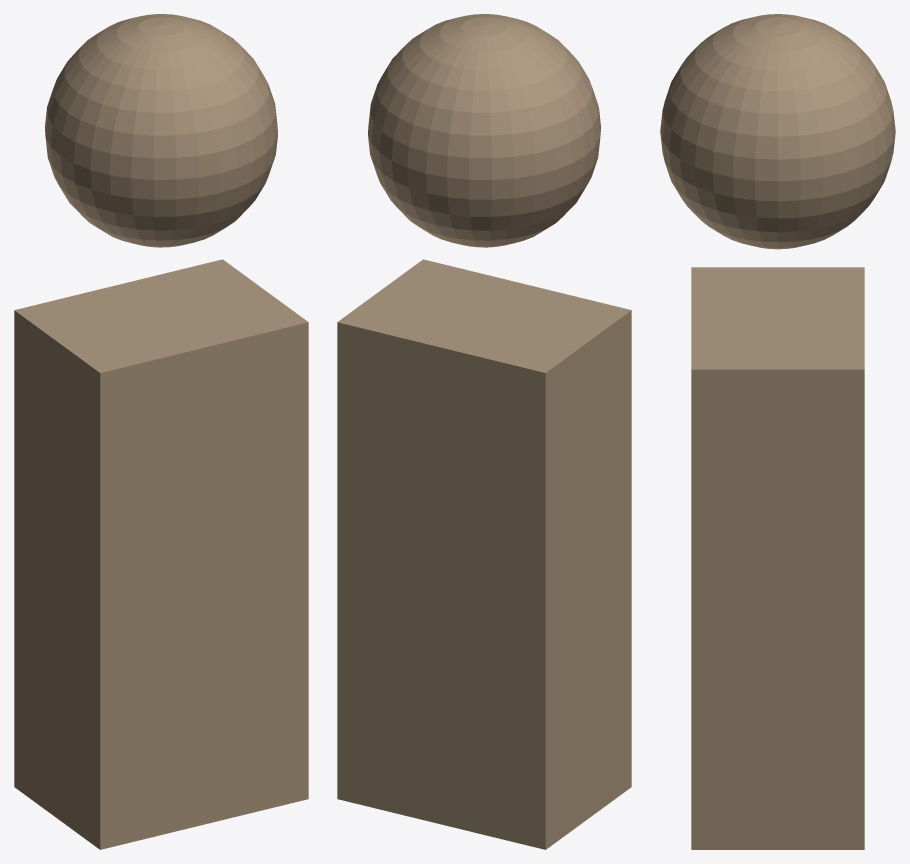
File: monster_golem.glb
3 views of the same model, side by side, from view 1: azimuth 30°, elevation 25°; view 2: azimuth 150°, elevation 25°; view 3: azimuth 270°, elevation 25° (orthographic).
Parts seen in each view (by area): view 1: monster_golem; view 2: monster_golem; view 3: monster_golem.
Boxes of the visible parts, bbox=[...] form: monster_golem: bbox=[14, 14, 308, 849]; monster_golem: bbox=[337, 14, 631, 849]; monster_golem: bbox=[660, 14, 895, 849].
Size of the model in its own units: 0.35 by 1.23 by 0.34.
